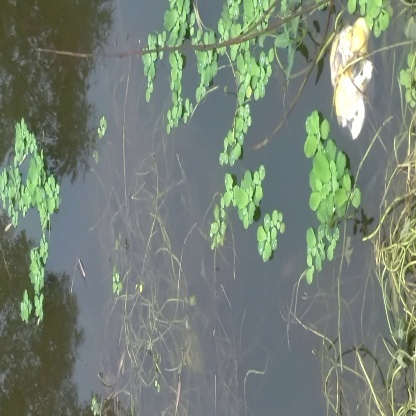leaf: (214, 167, 268, 230)
